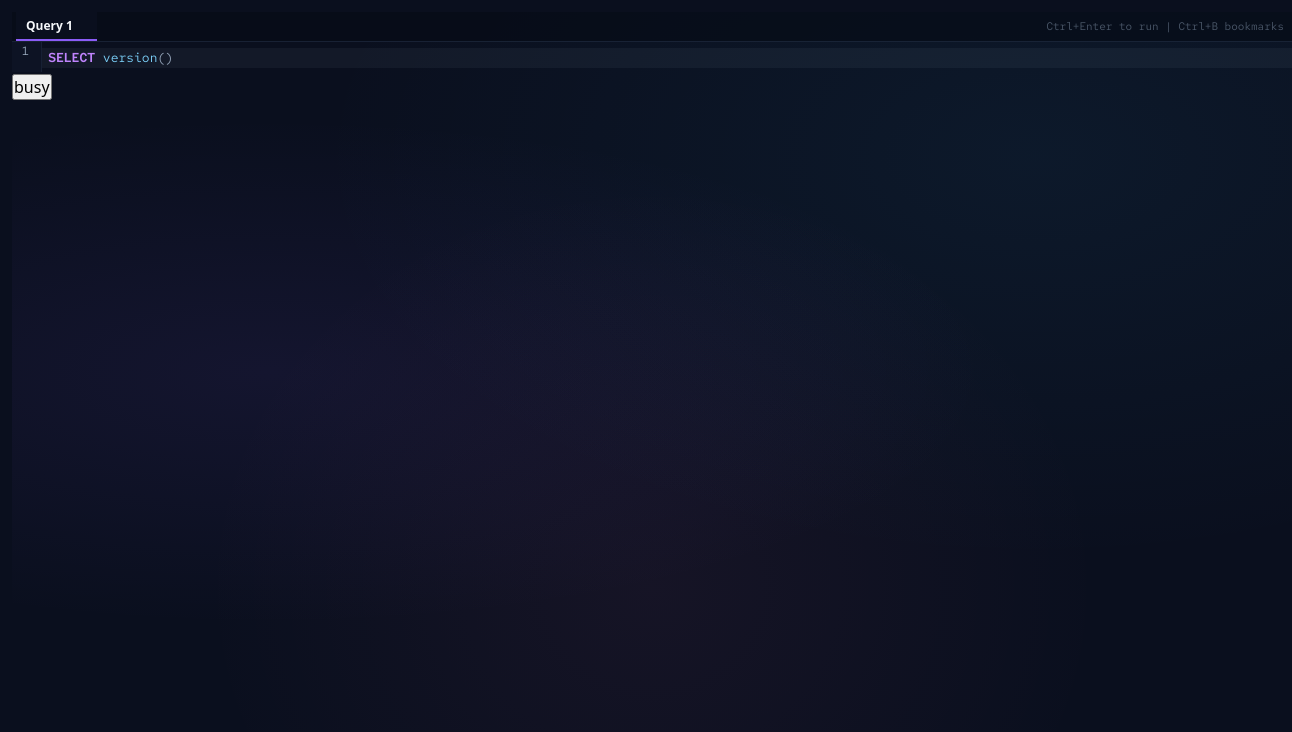
Scenario: tabs, the strip and the editor together › switching back restores the first tab's document
Click the button named "New query tab" at (112, 26), box [99,12,125,41]
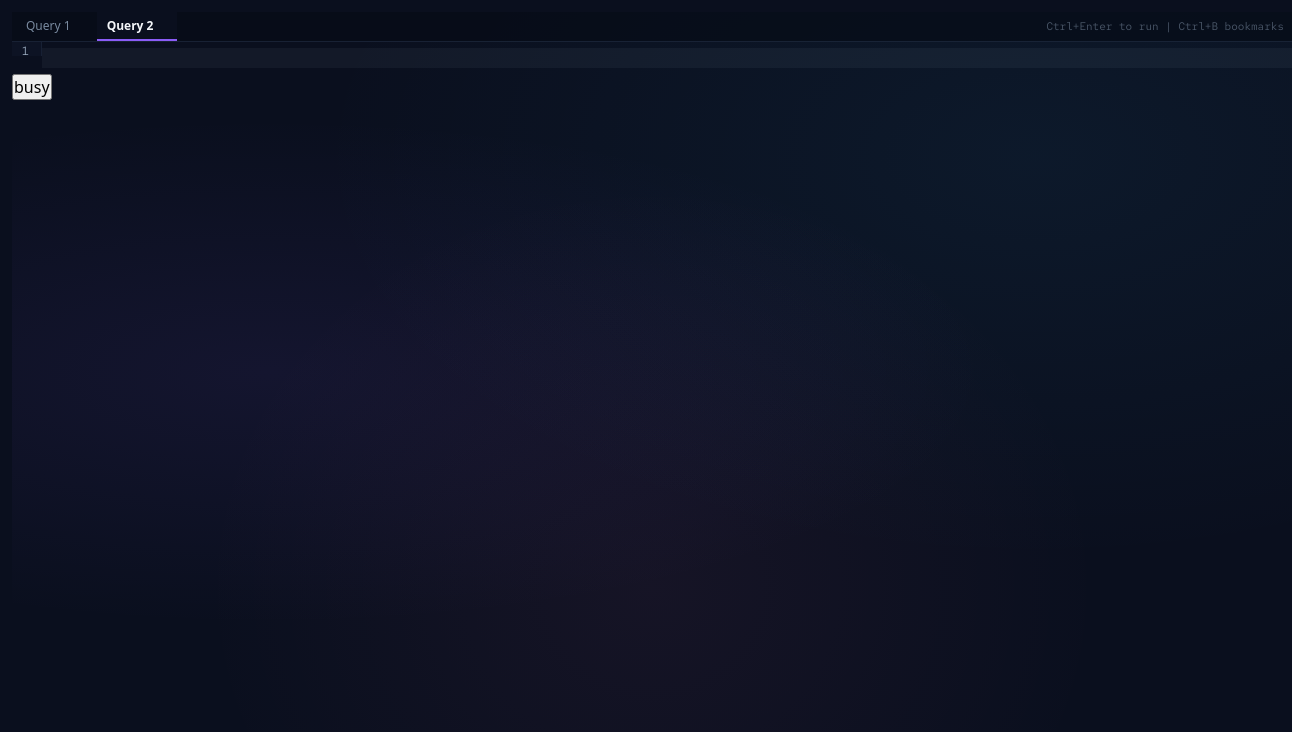
Click the tab "Query 1" at (48, 25), box [26,17,71,34]
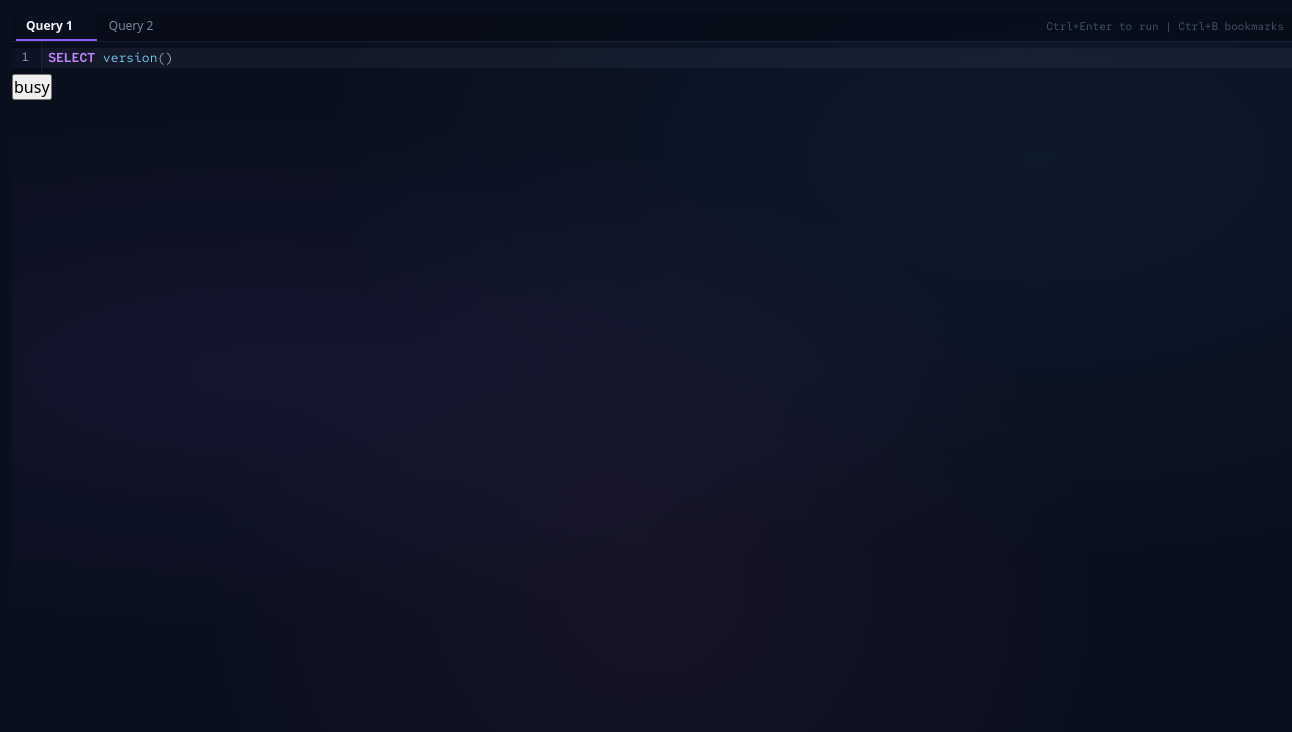
Expected: the text box labelled "SELECT version()" is shown, [42,48,1291,68]
